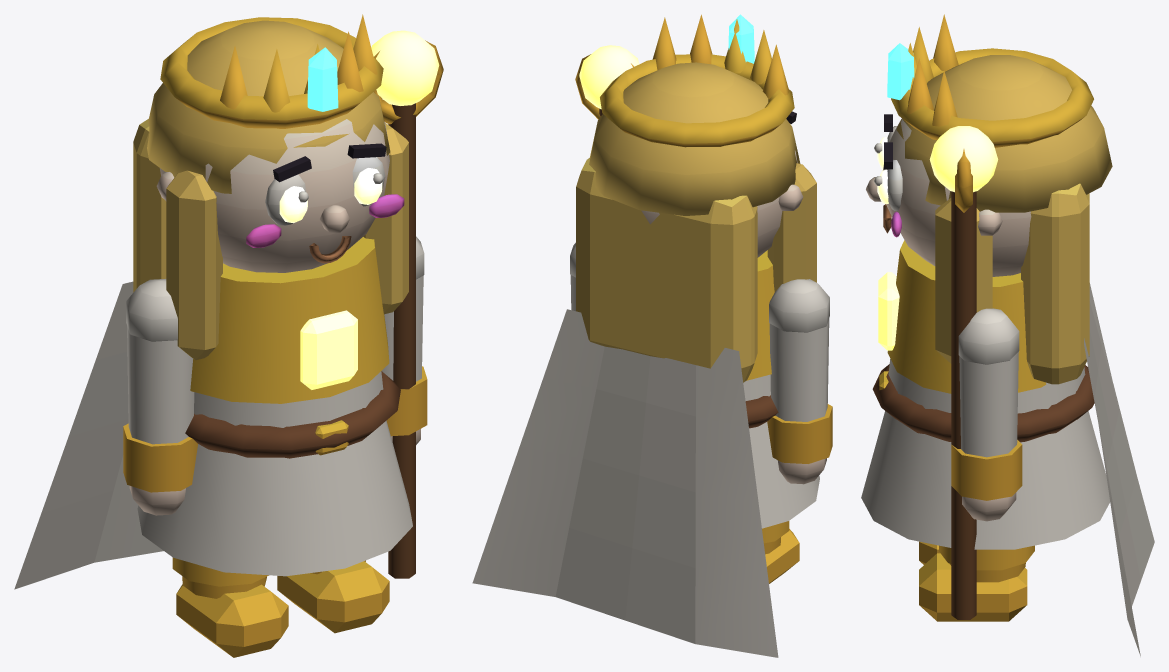
Rendered from hero_seraphine.glb.
The picture shows the model from 3 angles, left to right: view 1: azimuth 30°, elevation 25°; view 2: azimuth 150°, elevation 25°; view 3: azimuth 270°, elevation 25°; orthographic projection. The views are drawn at different scales.
Visible parts, largest first — view 1: body_t0_palette, arml_t0_palette, armr_t0_palette, legl_t0_palette, legr_t0_palette, body_t0_glow_gold, armr_t0_glow_gold, body_t0_crystal, body_t0_eye_glow; view 2: body_t0_palette, arml_t0_palette, armr_t0_glow_gold, legl_t0_palette, body_t0_crystal, armr_t0_palette; view 3: body_t0_palette, armr_t0_palette, legr_t0_palette, armr_t0_glow_gold, body_t0_glow_gold, body_t0_crystal, body_t0_eye_glow.
Boxes of the visible parts, x1,y1,x2,y2 form: body_t0_palette: (14,14,412,589); arml_t0_palette: (123,279,197,515); armr_t0_palette: (374,40,443,578); legl_t0_palette: (172,557,288,657); legr_t0_palette: (277,560,389,633); body_t0_glow_gold: (300,310,357,389); armr_t0_glow_gold: (371,30,439,105); body_t0_crystal: (307,47,338,111); body_t0_eye_glow: (279,168,382,223); body_t0_palette: (472,14,819,657); arml_t0_palette: (767,279,832,484); armr_t0_glow_gold: (579,45,639,109); legl_t0_palette: (762,521,799,583); body_t0_crystal: (728,14,754,63); armr_t0_palette: (570,54,634,311); body_t0_palette: (861,14,1154,656); armr_t0_palette: (951,149,1022,619); legr_t0_palette: (919,545,1034,621); armr_t0_glow_gold: (929,126,998,192); body_t0_glow_gold: (878,272,899,350); body_t0_crystal: (887,43,914,100); body_t0_eye_glow: (877,136,888,204).
Bounding box in the file's own units: 0.32 × 0.53 × 0.257.
